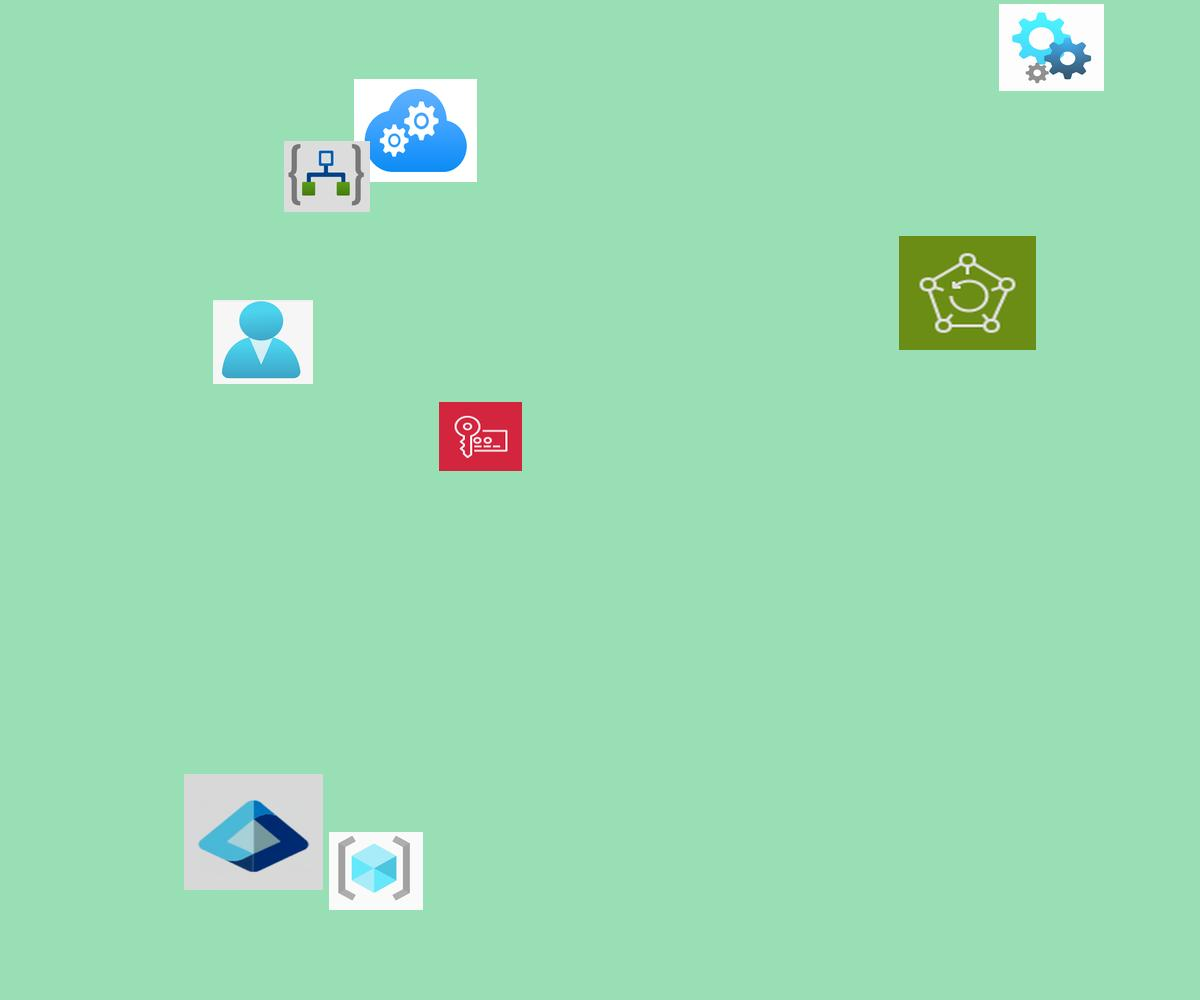AWS-Backup: (899, 236, 1036, 350)
AWS-Key-Management-Service: (439, 402, 522, 471)
Azure_api: (999, 4, 1104, 91)
Azure_cloud_services: (354, 79, 477, 182)
Azure_integration-204-Logic-Apps: (284, 141, 370, 212)
Azure_microsoft_entra: (184, 774, 323, 890)
Azure_resource_group: (329, 832, 423, 910)
Azure_users: (213, 300, 313, 384)
